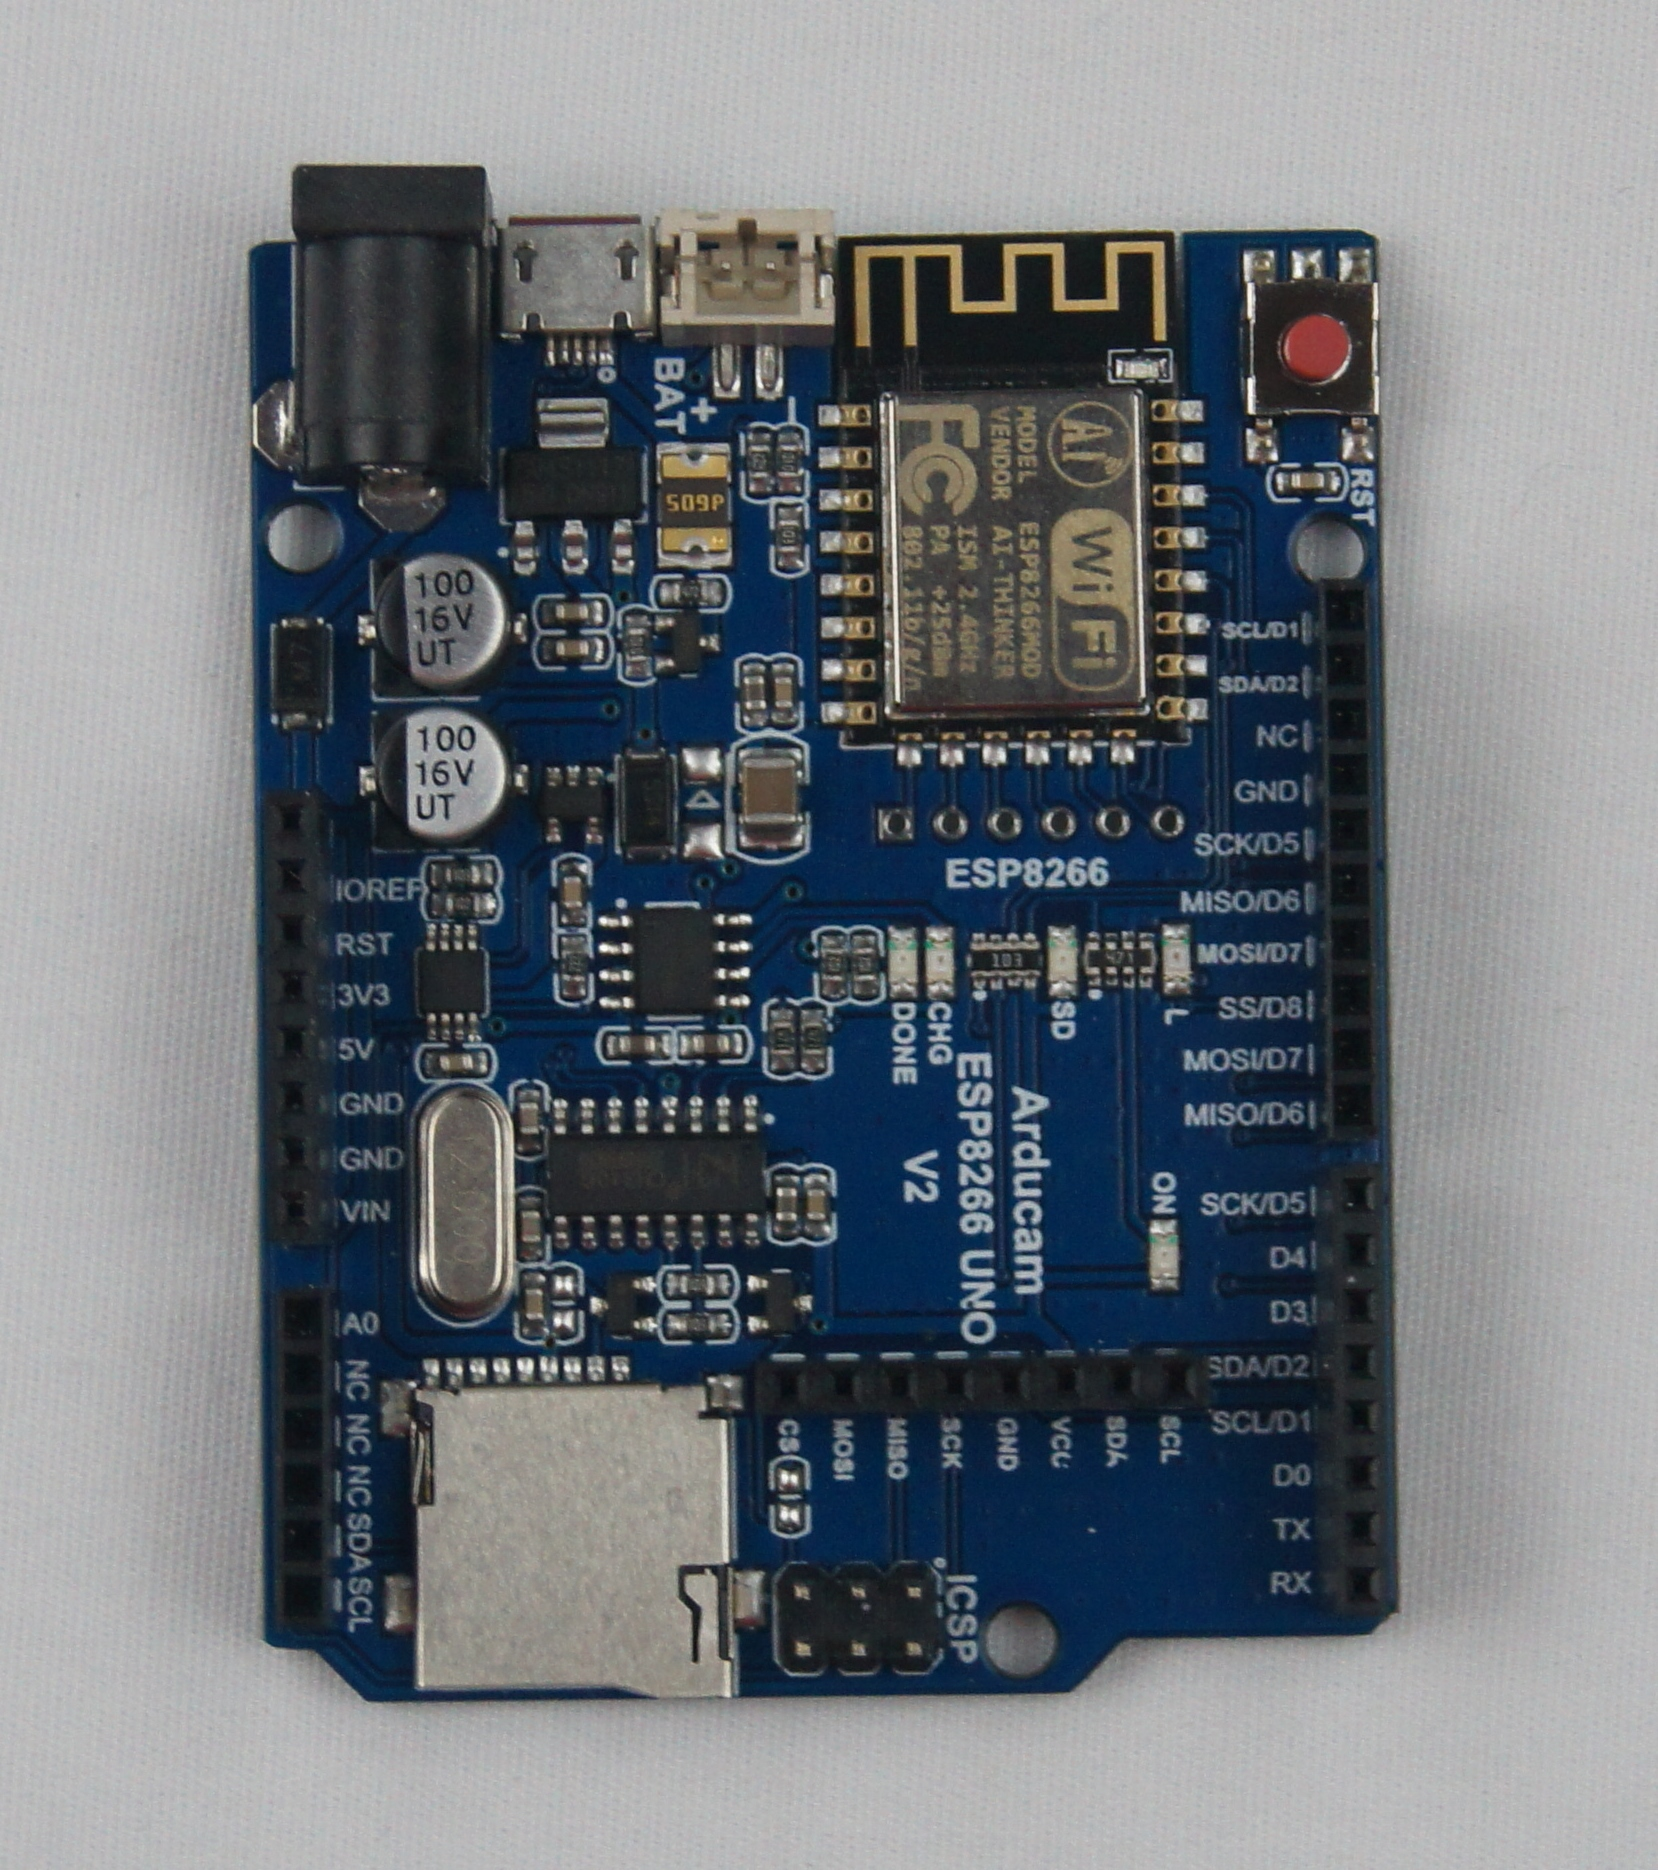kondensator: (363, 550, 511, 678), (362, 710, 503, 835), (651, 438, 733, 569), (731, 742, 805, 846), (555, 869, 587, 926), (519, 1277, 547, 1336), (1279, 469, 1340, 496), (803, 1173, 831, 1230), (543, 632, 594, 662), (771, 662, 799, 718), (519, 1198, 546, 1249), (515, 1096, 543, 1144), (683, 1037, 741, 1059), (551, 598, 599, 624), (607, 1032, 664, 1053), (778, 1185, 799, 1232), (739, 667, 762, 709), (431, 1056, 474, 1072)
